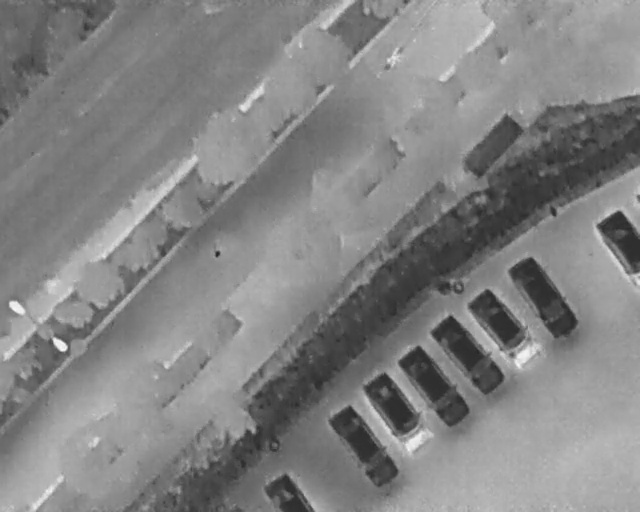Car: (424, 308, 513, 403), (390, 339, 477, 434), (355, 366, 439, 462), (460, 281, 545, 373), (324, 400, 407, 494), (503, 249, 584, 345), (593, 207, 639, 291), (262, 471, 314, 510)
